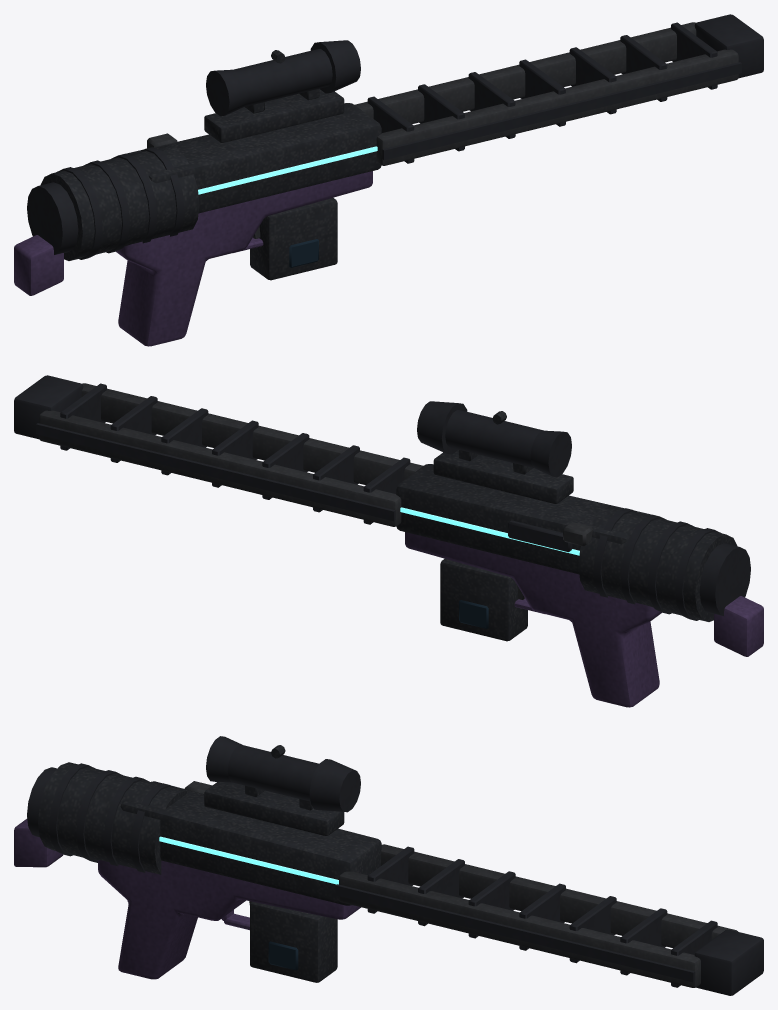
The model's file is railgun_r2.fbx.
3 renders of one model, top to bottom at view 1: azimuth 30°, elevation 25°; view 2: azimuth 150°, elevation 25°; view 3: azimuth 330°, elevation 25°, orthographic.
Parts seen in each view (by area): view 1: Body, Magazine, Glow; view 2: Body, Magazine, Bolt, Glow; view 3: Body, Magazine, Glow.
Boxes of the visible parts, x1,y1,x2,y2 form: Body: [14, 14, 763, 346]; Magazine: [250, 198, 337, 280]; Glow: [198, 146, 377, 194]; Body: [14, 375, 763, 707]; Magazine: [440, 559, 527, 641]; Bolt: [508, 520, 593, 552]; Glow: [400, 507, 579, 555]; Body: [14, 736, 763, 995]; Magazine: [250, 901, 337, 982]; Glow: [159, 836, 338, 884].
Size of the model in its own units: 9.35 by 3.08 by 1.08.
2 materials, 1 textured.
